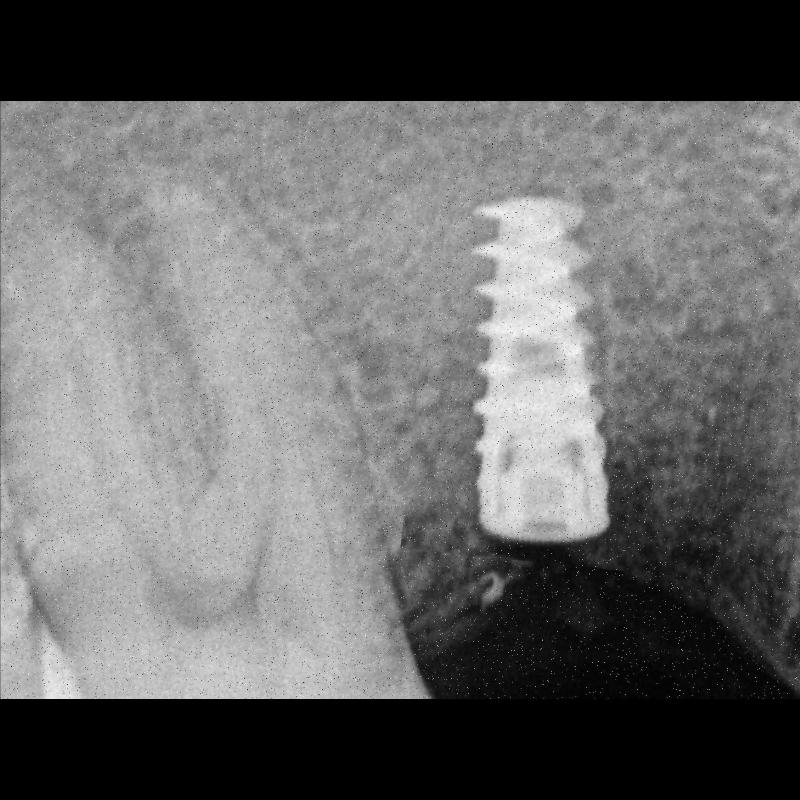ADIN: (410, 144, 658, 565)
